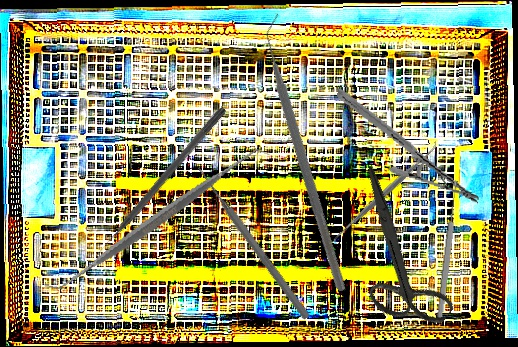Chopper: (166, 11, 453, 294)
Iris Scissors: (303, 163, 493, 347)
Needle Holder: (323, 87, 493, 206)
Pusher: (91, 104, 228, 259), (192, 162, 313, 322)
Spatula Surgical: (42, 104, 271, 335), (327, 138, 444, 246)
Surgical Spoon: (435, 180, 461, 322)
